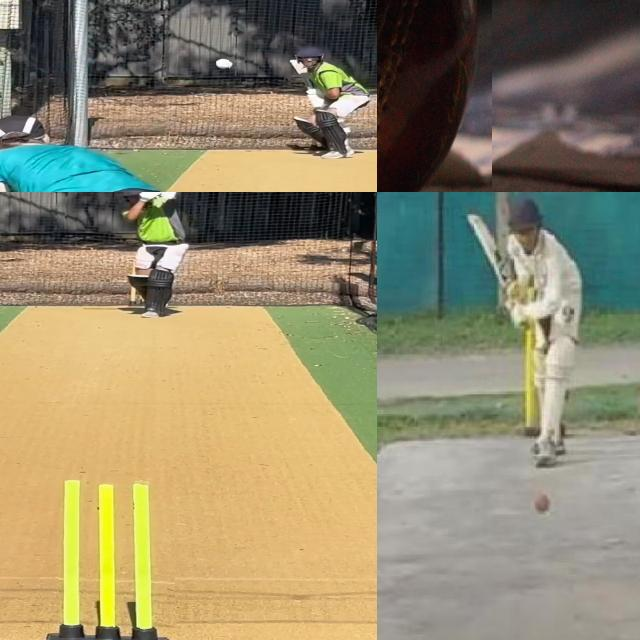Cricket ball: (377, 0, 491, 192), (533, 490, 553, 516), (215, 57, 236, 70)
Stumps: (45, 477, 175, 640)
